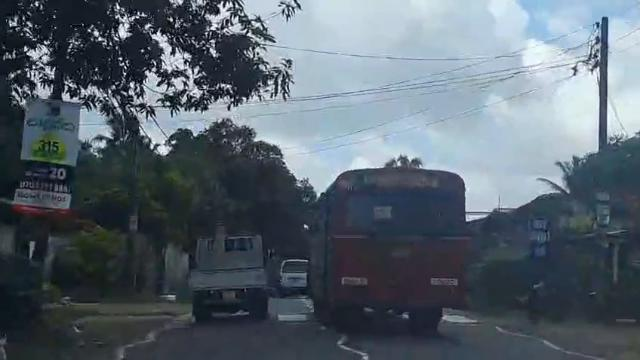illegal overtaking: (303, 179, 470, 324)
